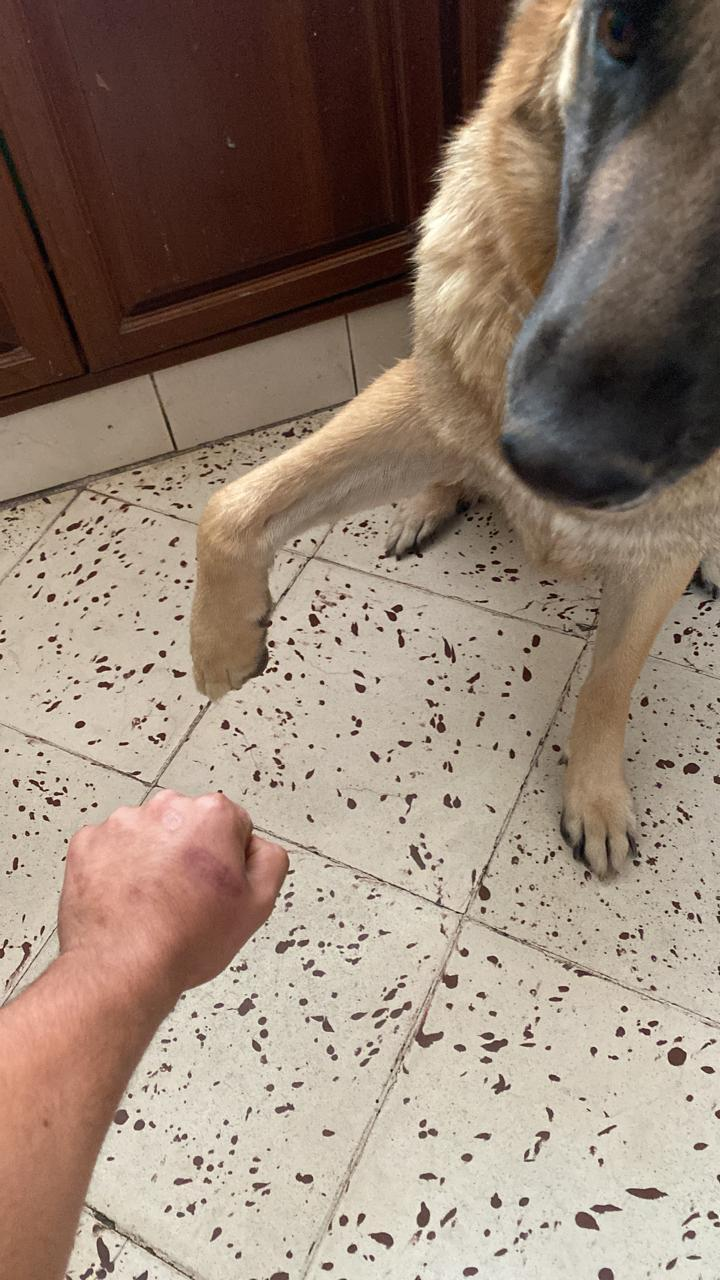Stone: (23, 743, 327, 1043)
